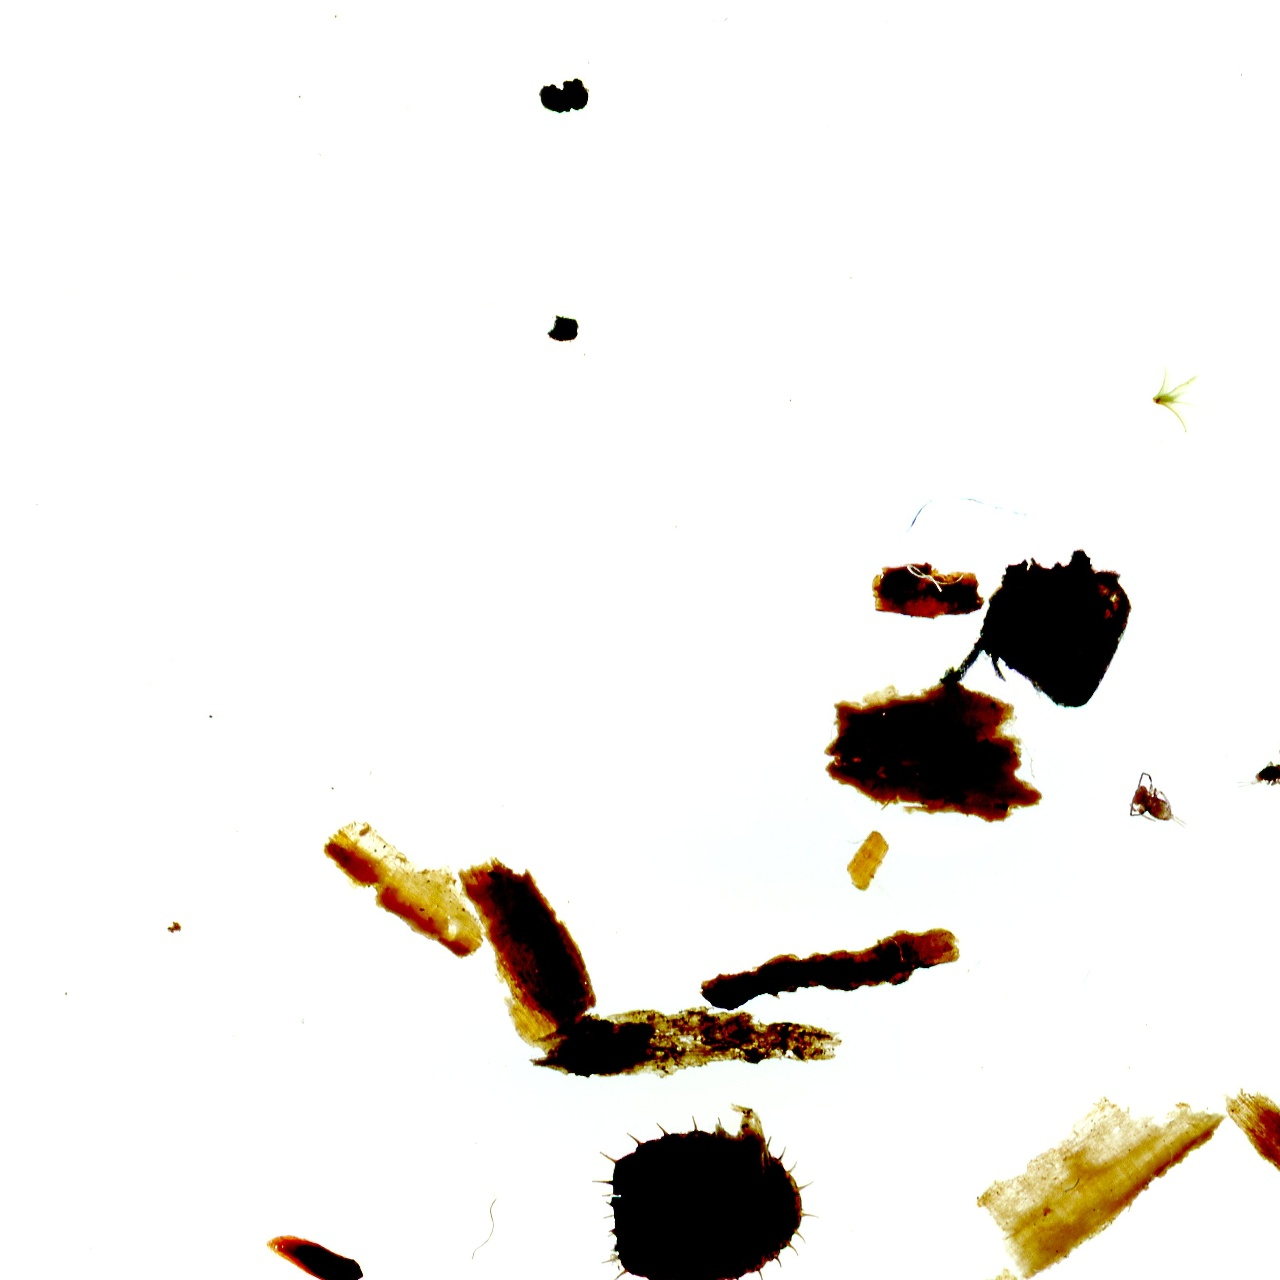arthropod: (1124, 769, 1190, 831), (1232, 735, 1280, 793)
